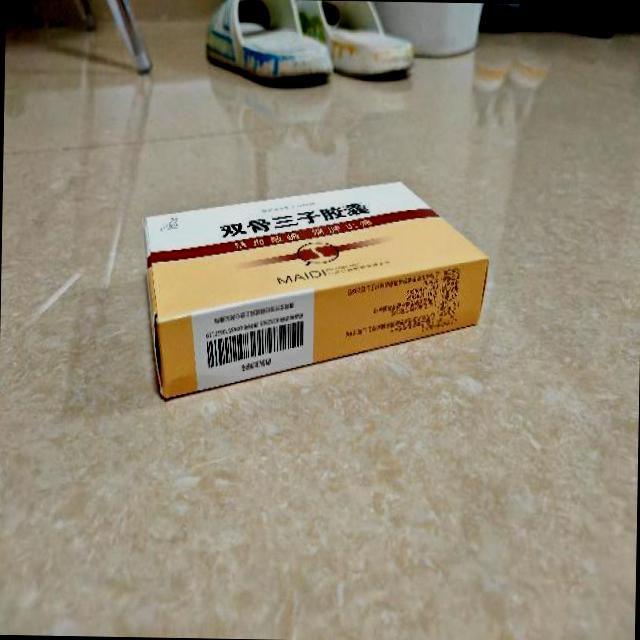box: (140, 174, 489, 408)
